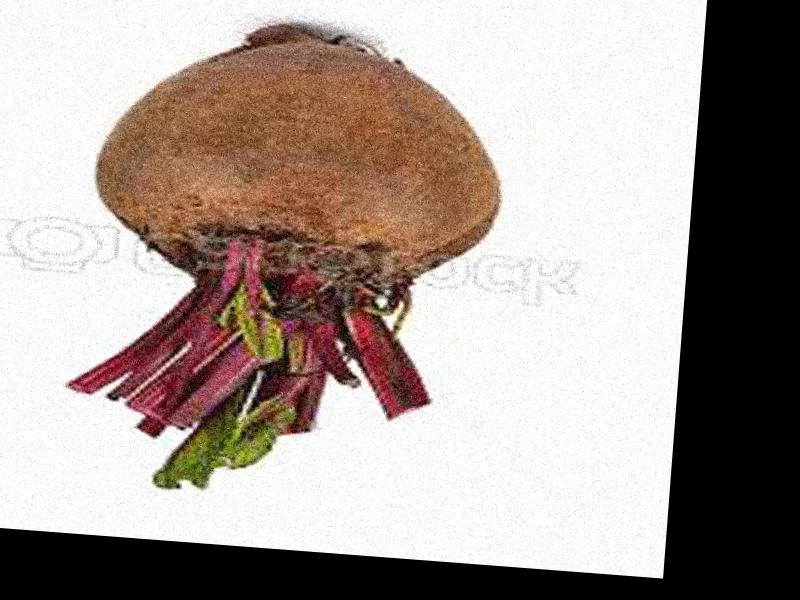Beet: (61, 11, 515, 511)
